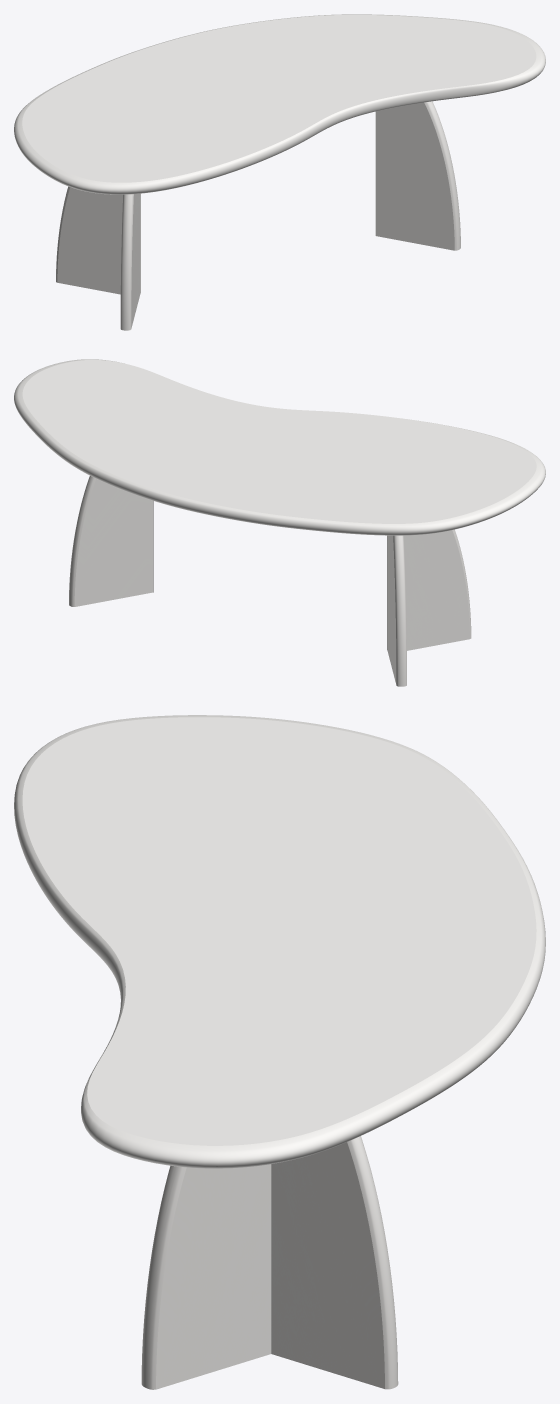
Rendered from purewhite_leaf1_round_newtable2.glb.
The picture shows the model from 3 angles, top to bottom: view 1: azimuth 30°, elevation 25°; view 2: azimuth 150°, elevation 25°; view 3: azimuth 270°, elevation 25°; orthographic projection. The views are drawn at different scales.
Parts seen in each view (by area): view 1: round_leaf1, newtable2_singleright2, newtable2_singleleft1, newtable2_singleright1; view 2: round_leaf1, newtable2_singleleft2, newtable2_singleright1, newtable2_singleleft1; view 3: round_leaf1, newtable2_singleleft2, newtable2_singleright2.
Boxes of the visible parts, left/top/right/bottom form: round_leaf1: left=14, top=14, right=545, bottom=194; newtable2_singleright2: left=375, top=101, right=460, bottom=250; newtable2_singleleft1: left=56, top=186, right=140, bottom=294; newtable2_singleright1: left=120, top=193, right=140, bottom=330; round_leaf1: left=14, top=359, right=545, bottom=535; newtable2_singleleft2: left=69, top=476, right=152, bottom=606; newtable2_singleright1: left=387, top=529, right=471, bottom=650; newtable2_singleleft1: left=387, top=535, right=406, bottom=686; round_leaf1: left=14, top=715, right=545, bottom=1168; newtable2_singleleft2: left=271, top=1136, right=398, bottom=1389; newtable2_singleright2: left=141, top=1164, right=271, bottom=1389.
Size of the model in its own units: 7.5 by 2.5 by 3.8.
1 material, 1 textured.
